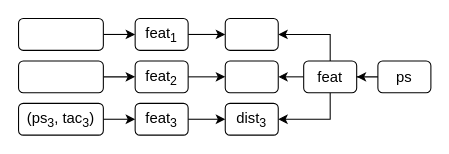
Image size: 449x154. Some labels were removed from this diagram. Here are the shapes that lost their labels. From the top down, the centre of each, then its label:
At (x=60, y=33): "(ps 1 , tac 1 )".
At (x=251, y=33): "dist 1".
At (x=60, y=76): "(ps 2 , tac 2 )".
At (x=251, y=76): "dist 2".
